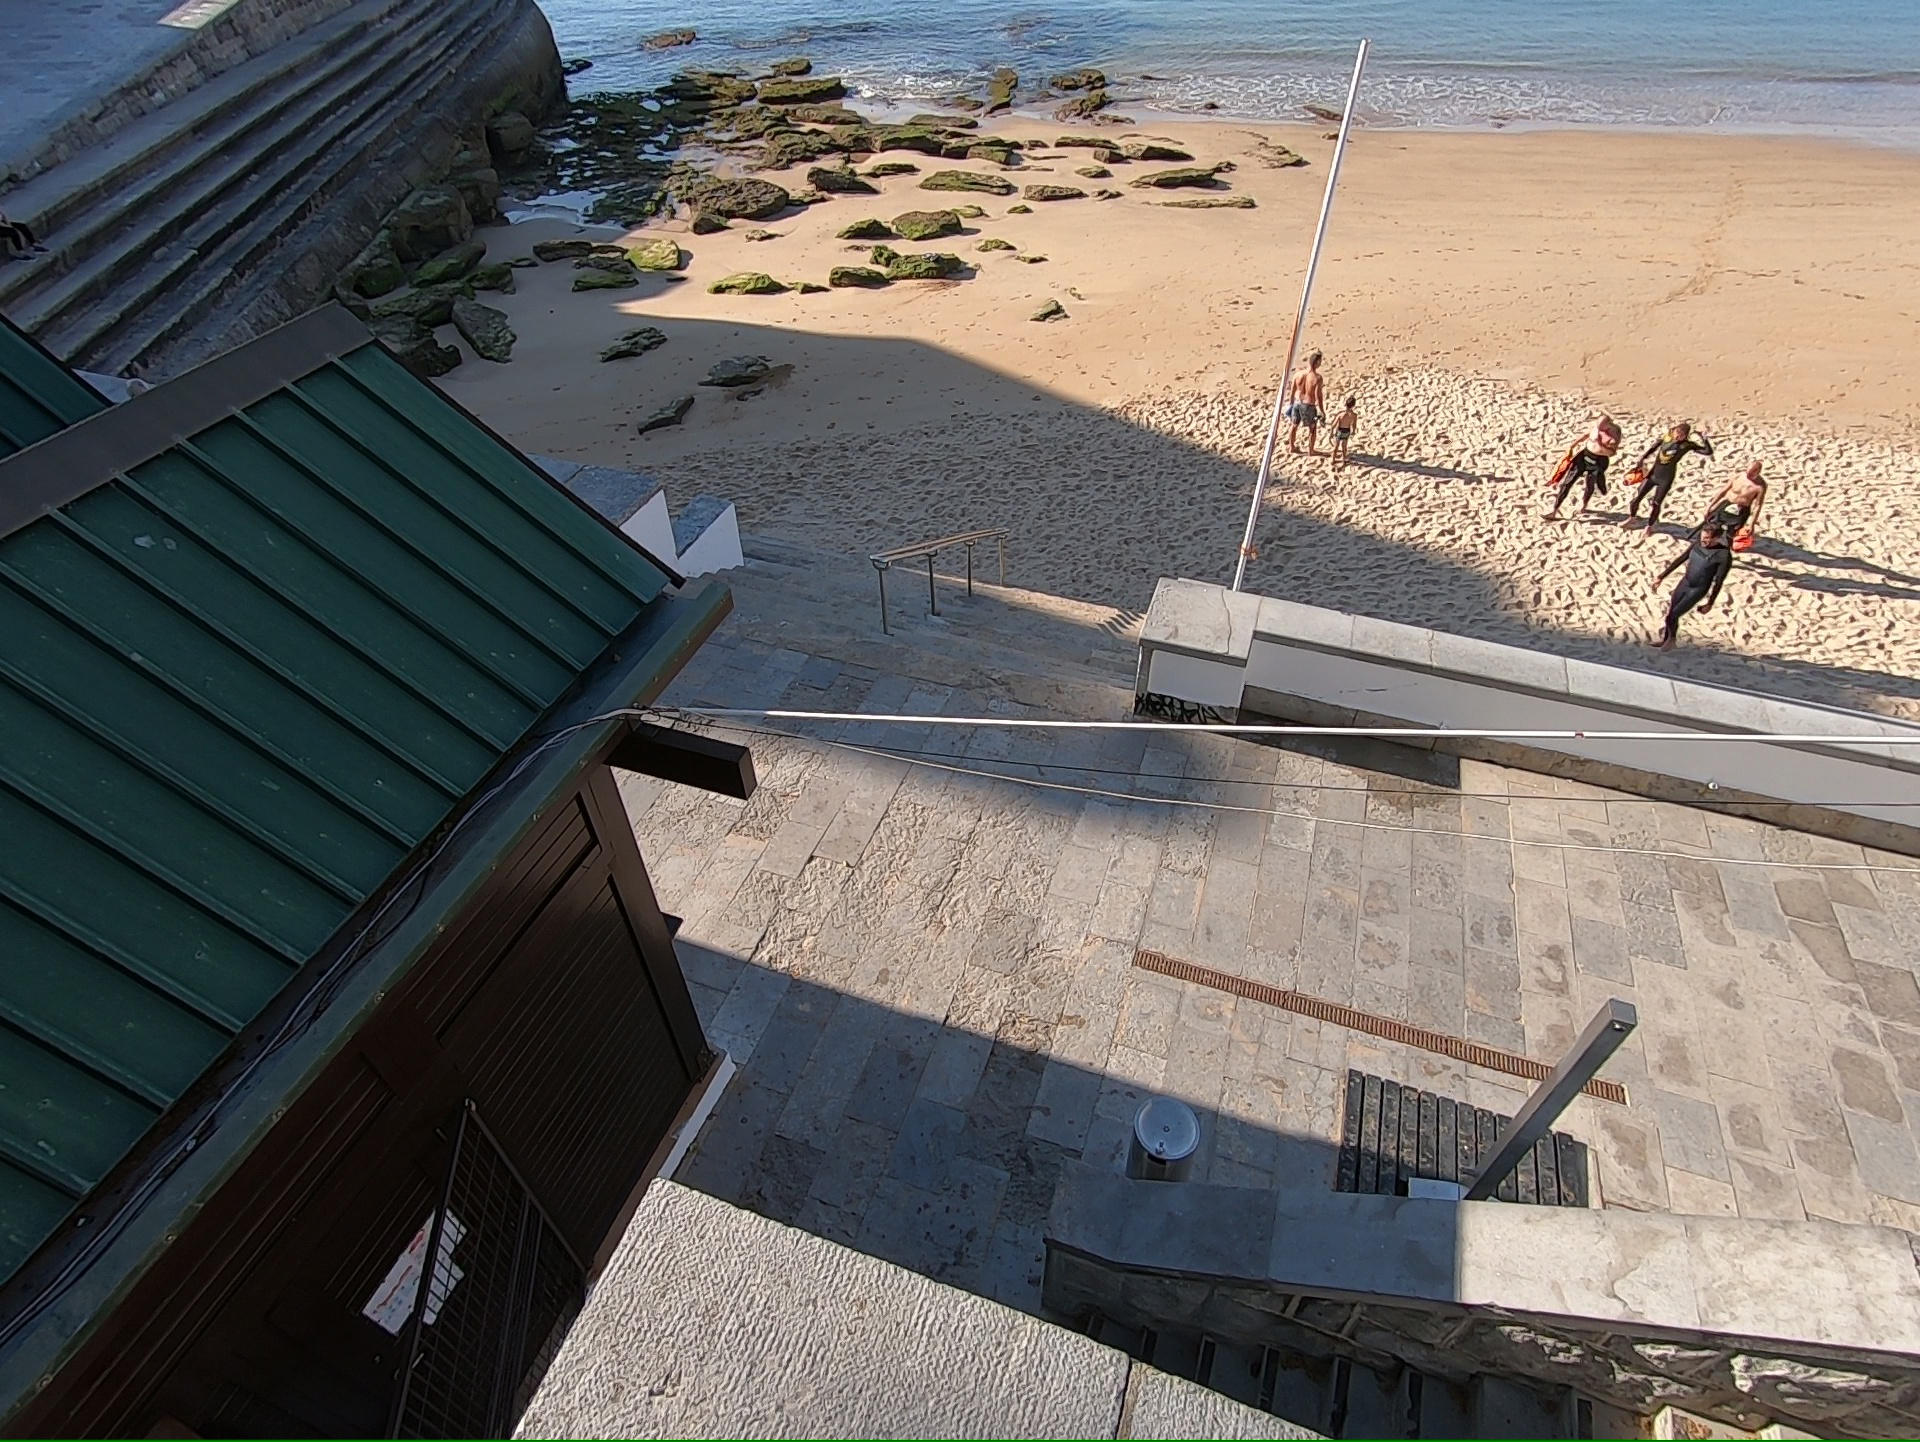person: (1544, 417, 1621, 519), (1656, 524, 1725, 641), (1634, 422, 1709, 508), (1289, 347, 1325, 460), (1712, 458, 1765, 522), (1331, 393, 1361, 466)
